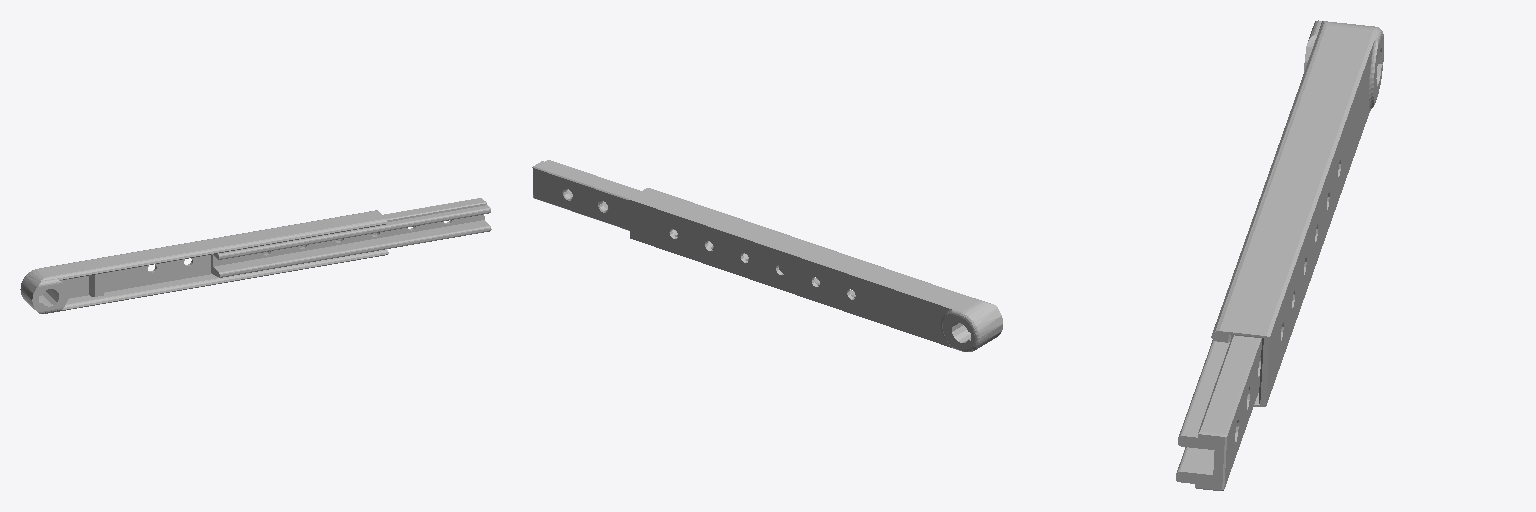
robot.urdf — exoskelaton_model:
<?xml version="1.0" encoding="utf-8" ?>
<!-- This URDF was automatically created by SolidWorks to URDF Exporter! Originally created by [author] ([email redacted]) 
     Commit Version: 1.6.0-4-g7f85cfe  Build Version: 1.6.7995.38578
     For more information, please see http://wiki.ros.org/sw_urdf_exporter -->
<robot name="exoskelaton_model">
    <link name="world" />
    <joint name="world_to_base_link=" type="fixed">
        <parent link="world" />
        <child link="base_link" />
    </joint>
    <link name="base_link">
        <inertial>
            <origin xyz="-0.083621 0.0087548 -0.18258" rpy="0 0 0" />
            <mass value="2.5151" />
            <inertia ixx="0.022882" ixy="2.2141E-06" ixz="-2.4105E-05" iyy="0.016089" iyz="2.9427E-06" izz="0.0083528" />
            <!-- <inertia ixx="1e-3" ixy="0.0" ixz="0.0" iyy="1e-3" iyz="0.0" izz="1e-3" /> -->
        </inertial>
        <visual>
            <origin xyz="0 0 0" rpy="0 0 0" />
            <geometry>
                <mesh filename="package://exoskelaton_model/meshes/base_link.STL" />
            </geometry>
            <material name="">
                <color rgba="0.74902 0.74902 0.74902 1" />
            </material>
        </visual>
        <collision>
            <origin xyz="0 0 0" rpy="0 0 0" />
            <geometry>
                <mesh filename="package://exoskelaton_model/meshes/base_link.STL" />
            </geometry>
        </collision>
    </link>
    <link name="link_1">
        <inertial>
            <origin xyz="0.00026832 0.11245 0.1143" rpy="0 0 0" />
            <mass value="1.1771" />
            <inertia ixx="0.0010591" ixy="6.9462E-07" ixz="-2.3971E-05" iyy="0.00080811" iyz="-2.4496E-05" izz="0.00047305" />
            <!-- <inertia ixx="1e-3" ixy="0.0" ixz="0.0" iyy="1e-3" iyz="0.0" izz="1e-3" /> -->
        </inertial>
        <visual>
            <origin xyz="0 0 0" rpy="0 0 0" />
            <geometry>
                <mesh filename="package://exoskelaton_model/meshes/link_1.STL" />
            </geometry>
            <material name="">
                <color rgba="0.75294 0.75294 0.75294 1" />
            </material>
        </visual>
        <collision>
            <origin xyz="0 0 0" rpy="0 0 0" />
            <geometry>
                <mesh filename="package://exoskelaton_model/meshes/link_1.STL" />
            </geometry>
        </collision>
    </link>
    <joint name="joint_1" type="revolute">
        <origin xyz="-0.15577 0.0088052 -0.26586" rpy="-0.00036153 -0.00029771 -3.1416" />
        <parent link="base_link" />
        <child link="link_1" />
        <axis xyz="0 0 -1" />
        <limit lower="-3.14" upper="3.14" effort="50" velocity="3.49" />
    </joint>
    <link name="link_2">
        <inertial>
            <origin xyz="0.0048091 0.19042 0.042951" rpy="0 0 0" />
            <mass value="1.1565" />
            <inertia ixx="0.0010511" ixy="-5.3021E-05" ixz="-1.3739E-07" iyy="0.00039937" iyz="-2.118E-06" izz="0.00087969" />
            <!-- <inertia ixx="1e-3" ixy="0.0" ixz="0.0" iyy="1e-3" iyz="0.0" izz="1e-3" /> -->
        </inertial>
        <visual>
            <origin xyz="0 0 0" rpy="0 0 0" />
            <geometry>
                <mesh filename="package://exoskelaton_model/meshes/link_2.STL" />
            </geometry>
            <material name="">
                <color rgba="0.75294 0.75294 0.75294 1" />
            </material>
        </visual>
        <collision>
            <origin xyz="0 0 0" rpy="0 0 0" />
            <geometry>
                <mesh filename="package://exoskelaton_model/meshes/link_2.STL" />
            </geometry>
        </collision>
    </link>
    <joint name="joint_2" type="revolute">
        <origin xyz="-0.03876 0.11791 0.13076" rpy="-3.1238 -1.5708 3.126" />
        <parent link="link_1" />
        <child link="link_2" />
        <axis xyz="0 0 -1" />
        <limit lower="-3.14" upper="3.14" effort="50" velocity="3.49" />
    </joint>
    <link name="link_3">
        <inertial>
            <origin xyz="-0.035914 0.18469 0.044015" rpy="0 0 0" />
            <mass value="1.1562" />
            <inertia ixx="0.0010315" ixy="0.0001235" ixz="-2.8739E-07" iyy="0.00041833" iyz="1.598E-06" izz="0.0008792" />
            <!-- <inertia ixx="1e-3" ixy="0.0" ixz="0.0" iyy="1e-3" iyz="0.0" izz="1e-3" /> -->
        </inertial>
        <visual>
            <origin xyz="0 0 0" rpy="0 0 0" />
            <geometry>
                <mesh filename="package://exoskelaton_model/meshes/link_3.STL" />
            </geometry>
            <material name="">
                <color rgba="0.75294 0.75294 0.75294 1" />
            </material>
        </visual>
        <collision>
            <origin xyz="0 0 0" rpy="0 0 0" />
            <geometry>
                <mesh filename="package://exoskelaton_model/meshes/link_3.STL" />
            </geometry>
        </collision>
    </link>
    <joint name="joint_3" type="revolute">
        <origin xyz="-0.03366 0.20656 0.046" rpy="1.5708 0 -1.6211" />
        <parent link="link_2" />
        <child link="link_3" />
        <axis xyz="0 0 -1" />
        <limit lower="-3.14" upper="3.14" effort="50" velocity="3.49" />
    </joint>
    <link name="link_4">
        <inertial>
            <origin xyz="-0.12254 0.22742 -0.030124" rpy="0 0 0" />
            <mass value="1.19" />
            <inertia ixx="0.00090778" ixy="0.00033737" ixz="-1.3858E-05" iyy="0.00062445" iyz="2.0378E-05" izz="0.0013155" />
            <!-- <inertia ixx="1e-3" ixy="0.0" ixz="0.0" iyy="1e-3" iyz="0.0" izz="1e-3" /> -->
        </inertial>
        <visual>
            <origin xyz="0 0 0" rpy="0 0 0" />
            <geometry>
                <mesh filename="package://exoskelaton_model/meshes/link_4.STL" />
            </geometry>
            <material name="">
                <color rgba="0.75294 0.75294 0.75294 1" />
            </material>
        </visual>
        <collision>
            <origin xyz="0 0 0" rpy="0 0 0" />
            <geometry>
                <mesh filename="package://exoskelaton_model/meshes/link_4.STL" />
            </geometry>
        </collision>
    </link>
    <joint name="joint_4" type="revolute">
        <origin xyz="0.0027746 0.20467 0.047" rpy="1.5708 0 1.7195" />
        <parent link="link_3" />
        <child link="link_4" />
        <axis xyz="0 0 -1" />
        <limit lower="-3.14" upper="3.14" effort="50" velocity="3.49" />
    </joint>
    <link name="link_5">
        <inertial>
            <origin xyz="-0.067675 -0.096987 -0.007807" rpy="0 0 0" />
            <mass value="0.073555" />
            <inertia ixx="0.00014301" ixy="-9.669E-05" ixz="7.936E-07" iyy="7.1908E-05" iyz="1.1339E-06" izz="0.00021197" />
            <!-- <inertia ixx="1e-3" ixy="0.0" ixz="0.0" iyy="1e-3" iyz="0.0" izz="1e-3" /> -->
        </inertial>
        <visual>
            <origin xyz="0 0 0" rpy="0 0 0" />
            <geometry>
                <mesh filename="package://exoskelaton_model/meshes/link_5.STL" />
            </geometry>
            <material name="">
                <color rgba="0.75294 0.75294 0.75294 1" />
            </material>
        </visual>
        <collision>
            <origin xyz="0 0 0" rpy="0 0 0" />
            <geometry>
                <mesh filename="package://exoskelaton_model/meshes/link_5.STL" />
            </geometry>
        </collision>
    </link>
    <joint name="joint_5" type="revolute">
        <origin xyz="-0.13159 0.24476 0.0099608" rpy="-0.00024377 0.0001709 2.1822" />
        <parent link="link_4" />
        <child link="link_5" />
        <axis xyz="0 0 -1" />
        <limit lower="-3.14" upper="3.14" effort="50" velocity="3.49" />
    </joint>
    <transmission name="trans_joint_1">
        <type>transmission_interface/SimpleTransmission</type>
        <joint name="joint_1">
            <hardwareInterface>hardware_interface/EffortJointInterface</hardwareInterface>
        </joint>
        <actuator name="joint_1_motor">
            <hardwareInterface>hardware_interface/EffortJointInterface</hardwareInterface>
            <mechanicalReduction>1</mechanicalReduction>
        </actuator>
    </transmission>
    <transmission name="trans_joint_2">
        <type>transmission_interface/SimpleTransmission</type>
        <joint name="joint_2">
            <hardwareInterface>hardware_interface/EffortJointInterface</hardwareInterface>
        </joint>
        <actuator name="joint_2_motor">
            <hardwareInterface>hardware_interface/EffortJointInterface</hardwareInterface>
            <mechanicalReduction>1</mechanicalReduction>
        </actuator>
    </transmission>
    <transmission name="trans_joint_3">
        <type>transmission_interface/SimpleTransmission</type>
        <joint name="joint_3">
            <hardwareInterface>hardware_interface/EffortJointInterface</hardwareInterface>
        </joint>
        <actuator name="joint_3_motor">
            <hardwareInterface>hardware_interface/EffortJointInterface</hardwareInterface>
            <mechanicalReduction>1</mechanicalReduction>
        </actuator>
    </transmission>
    <transmission name="trans_joint_4">
        <type>transmission_interface/SimpleTransmission</type>
        <joint name="joint_4">
            <hardwareInterface>hardware_interface/EffortJointInterface</hardwareInterface>
        </joint>
        <actuator name="joint_4_motor">
            <hardwareInterface>hardware_interface/EffortJointInterface</hardwareInterface>
            <mechanicalReduction>1</mechanicalReduction>
        </actuator>
    </transmission>
    <transmission name="trans_joint_5">
        <type>transmission_interface/SimpleTransmission</type>
        <joint name="joint_5">
            <hardwareInterface>hardware_interface/EffortJointInterface</hardwareInterface>
        </joint>
        <actuator name="joint_5_motor">
            <hardwareInterface>hardware_interface/EffortJointInterface</hardwareInterface>
            <mechanicalReduction>1</mechanicalReduction>
        </actuator>
    </transmission>
    <gazebo>
        <plugin name="gazebo_ros_control" filename="libgazebo_ros_control.so">
            <robotNamespace>/exoskelaton</robotNamespace>
        </plugin>
    </gazebo>
    <gazebo reference="base_link">
        <mu1>0.2</mu1>
        <mu2>0.2</mu2>
        <kd>0.2</kd>
        <gravity>0</gravity>
    </gazebo>
    <gazebo reference="link_1">
        <mu1>0.2</mu1>
        <mu2>0.2</mu2>
        <kd>0.2</kd>
        <gravity>0</gravity>
    </gazebo>
    <gazebo reference="link_2">
        <mu1>0.2</mu1>
        <mu2>0.2</mu2>
        <kd>0.2</kd>
        <gravity>0</gravity>
    </gazebo>
    <gazebo reference="link_3">
        <mu1>0.2</mu1>
        <mu2>0.2</mu2>
        <kd>0.2</kd>
        <gravity>0</gravity>
    </gazebo>
    <gazebo reference="link_4">
        <mu1>0.2</mu1>
        <mu2>0.2</mu2>
        <kd>0.2</kd>
        <gravity>0</gravity>
    </gazebo>
    <gazebo reference="link_5">
        <mu1>0.2</mu1>
        <mu2>0.2</mu2>
        <kd>0.2</kd>
        <gravity>0</gravity>
    </gazebo>
</robot>

--- Render facts (derived) ---
Views: 3 orthographic renders of the robot side by side, from view 1: azimuth 30°, elevation 25°; view 2: azimuth 150°, elevation 25°; view 3: azimuth 270°, elevation 25°.
Robot: exoskelaton_model — 7 links, 6 joints (5 revolute, 1 fixed); root link world; default pose: every joint at zero.
Links seen in each view (by area): view 1: link_5; view 2: link_5; view 3: link_5.
Link boxes in pixels (box(x1,y1,x2,y2)): link_5: box(20, 198, 491, 313); link_5: box(532, 160, 1002, 351); link_5: box(1176, 20, 1383, 490).
Size in the robot's own frame: 0.2535 by 0.0529 by 0.0215 metres.
Meshes: 6 distinct files referenced, 1 mesh visuals loaded (1 binary STL); not drawn: 5 (reference not matched to a file when rendering).